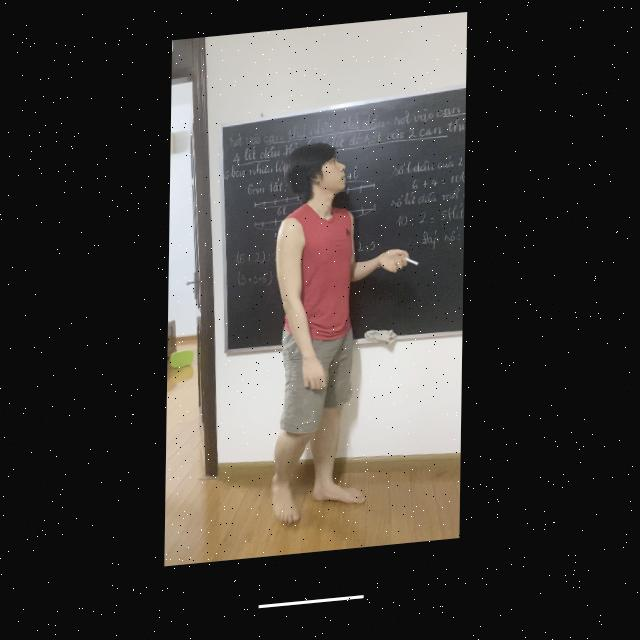cigarette: (406, 265, 419, 275)
